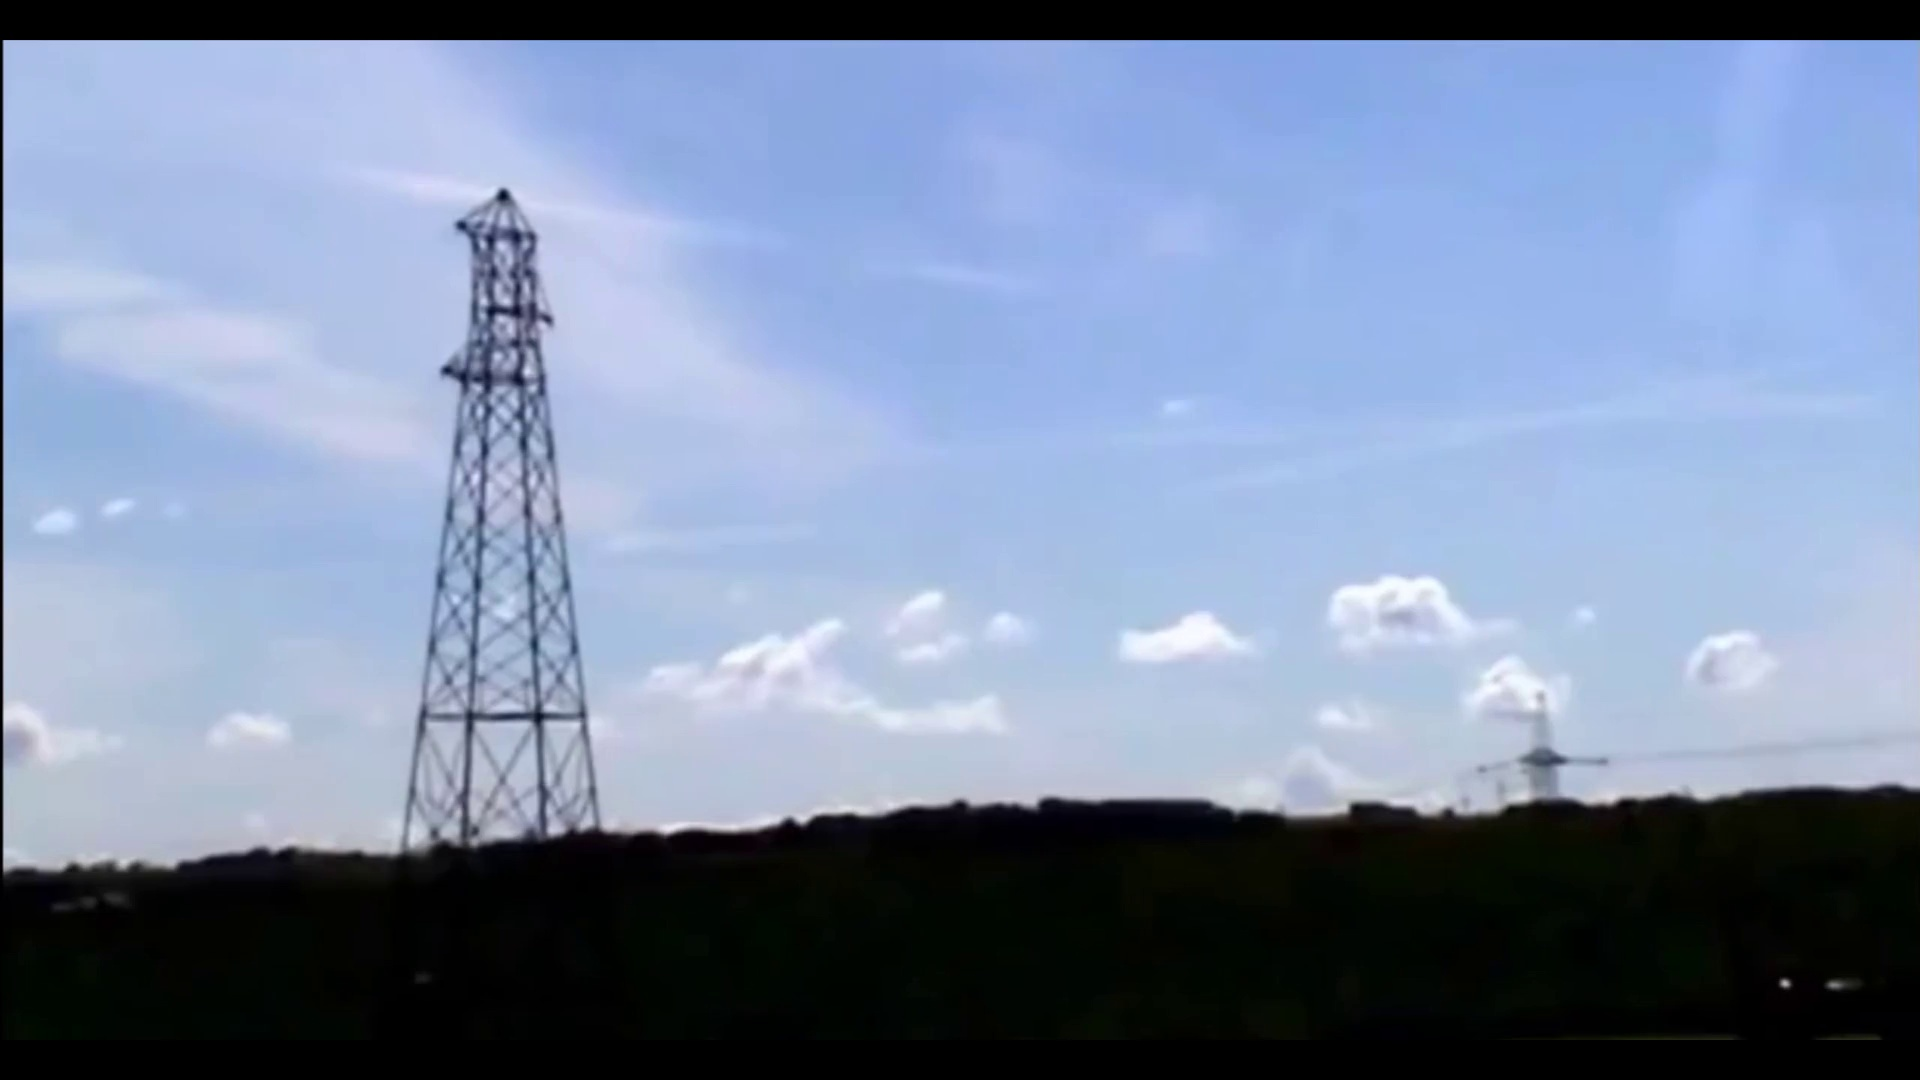tower_up: (360, 156, 657, 843)
